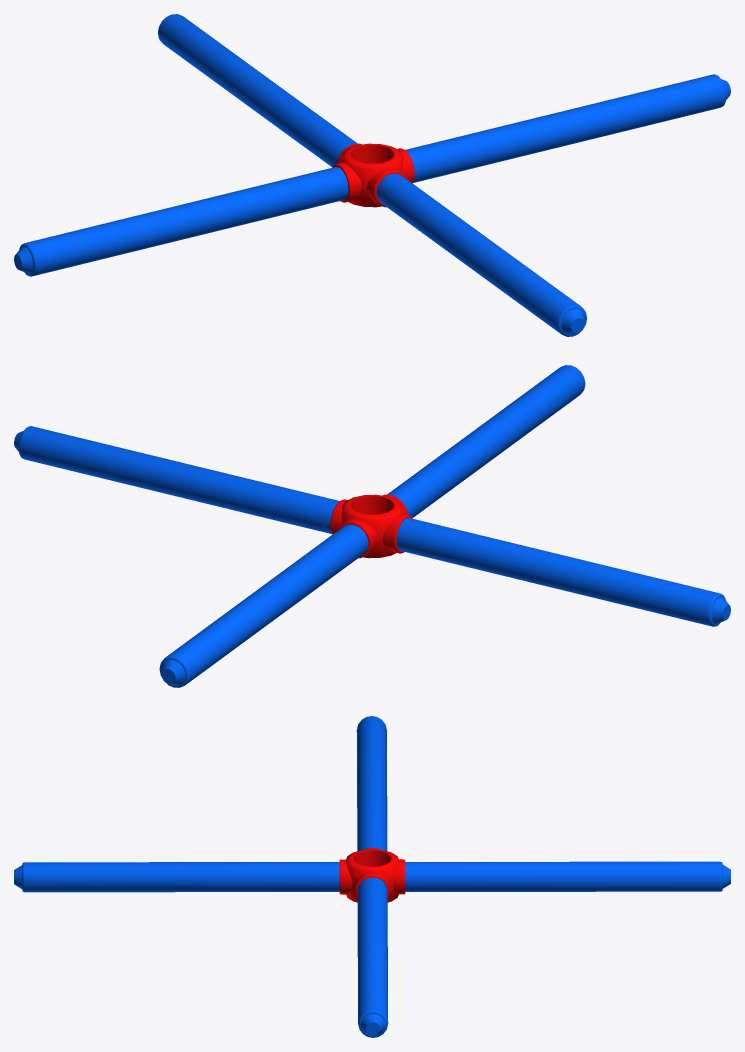
Rendered from BallisteCrank.fbx.
3 views of the same model, one above another, from view 1: azimuth 30°, elevation 25°; view 2: azimuth 150°, elevation 25°; view 3: azimuth 270°, elevation 25° (orthographic). The views are drawn at different scales.
Parts seen in each view (by area): view 1: Object002; view 2: Object002; view 3: Object002.
Boxes of the visible parts, bbox=[...] form: Object002: bbox=[14, 14, 730, 336]; Object002: bbox=[14, 365, 730, 687]; Object002: bbox=[14, 716, 730, 1037].
Bounding box in the file's own units: 254 × 14.44 × 254.
